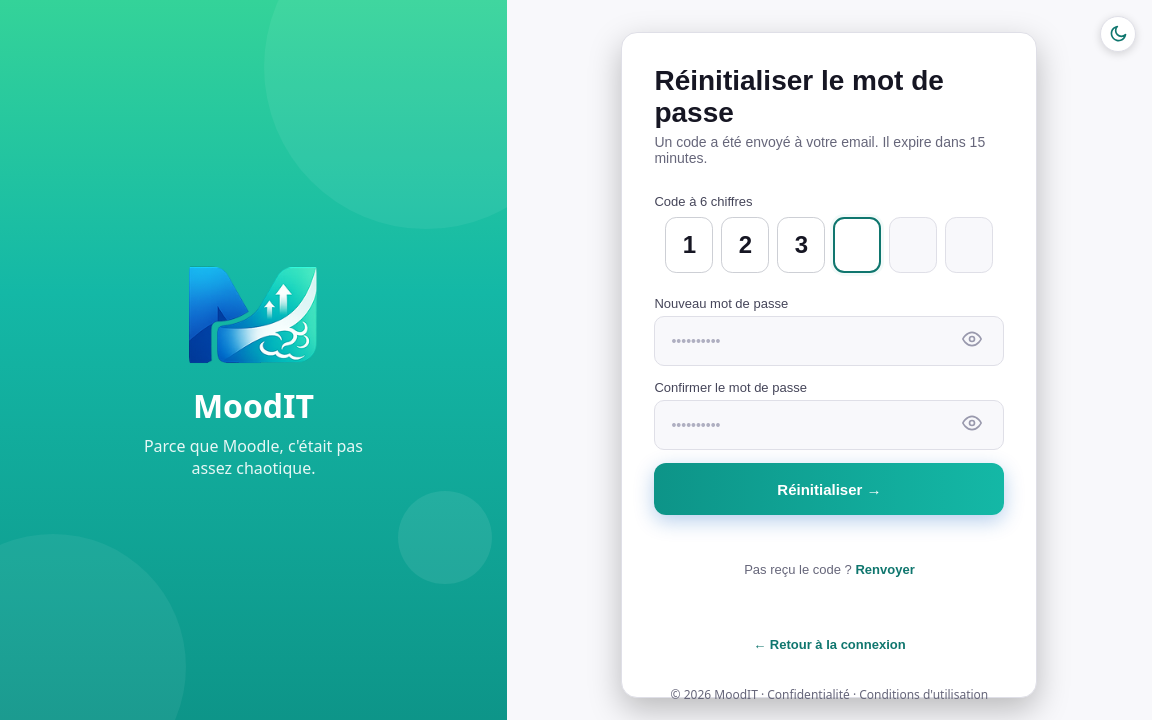
Scenario: ResetPassword › code incomplet : erreur et cases du code en erreur, aucun appel
Type "Nouveau1!" into the password field with placeholder "••••••••••" below "Nouveau mot de passe". click: (829, 341)
box: [654, 316, 1004, 366]
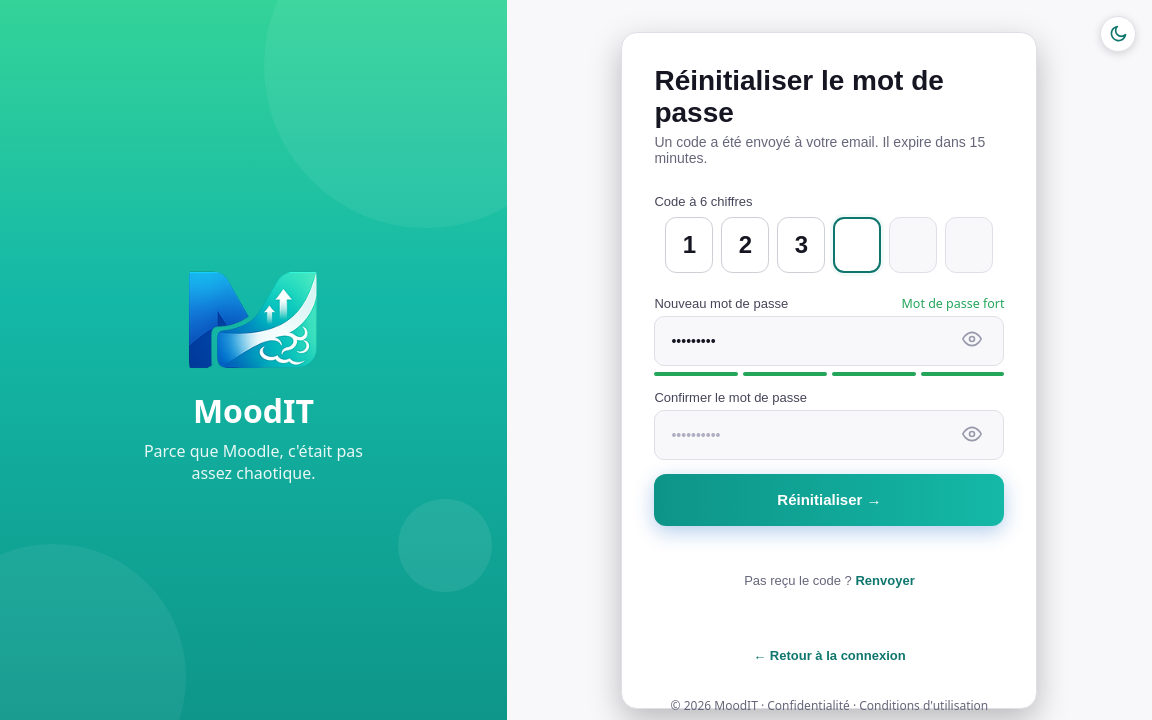
Type "Nouveau1!" into the password field with placeholder "••••••••••". click: (829, 435)
box: [654, 410, 1004, 460]
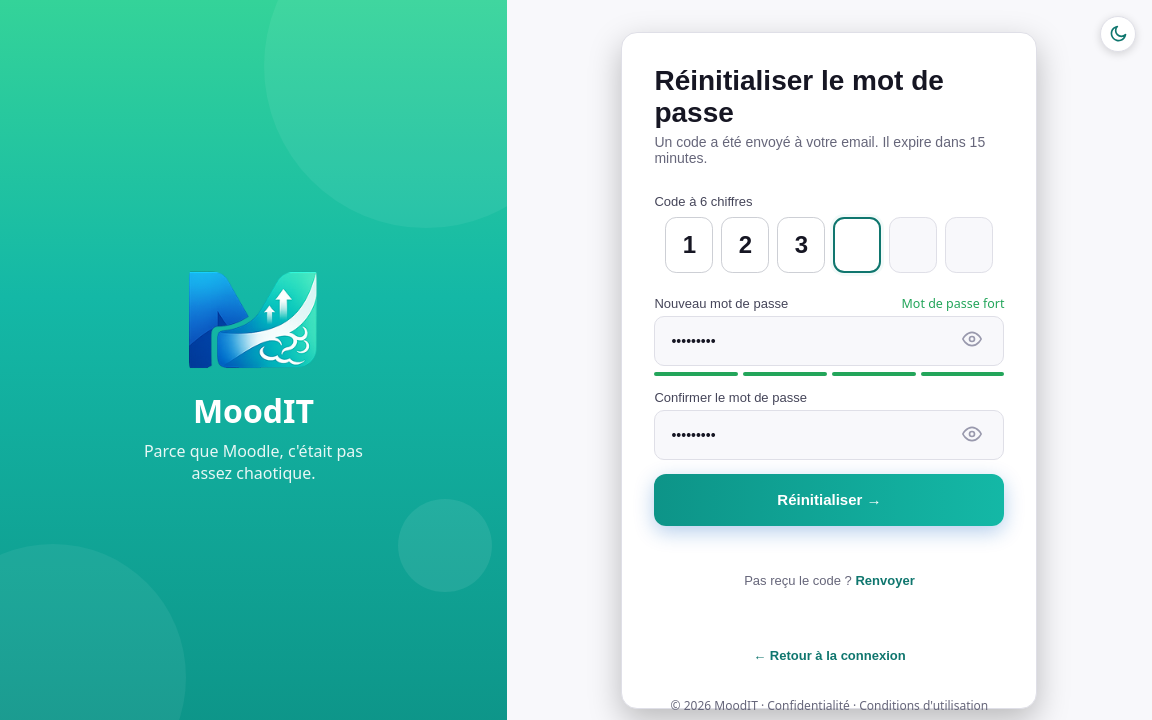
Click the button "Réinitialiser →". click: (829, 500)
box: [654, 474, 1004, 526]
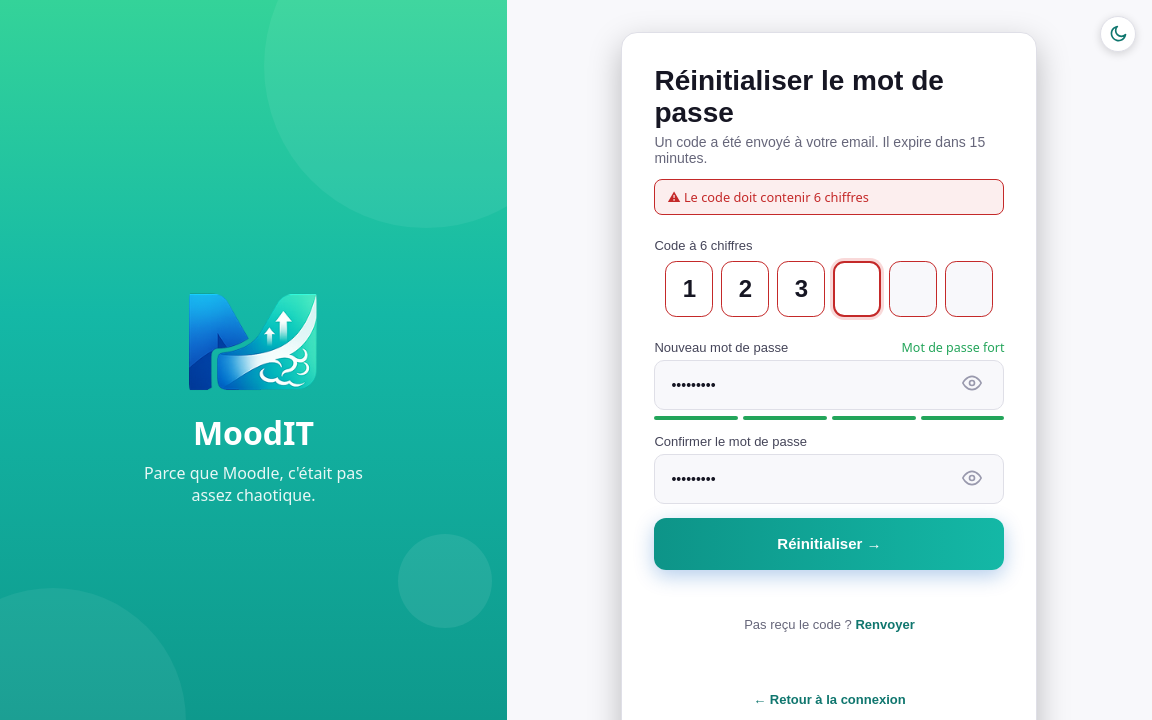
Check: the text with class "server-error" reads "⚠ Le code doit contenir 6 chiffres", box [654, 179, 1004, 215]
